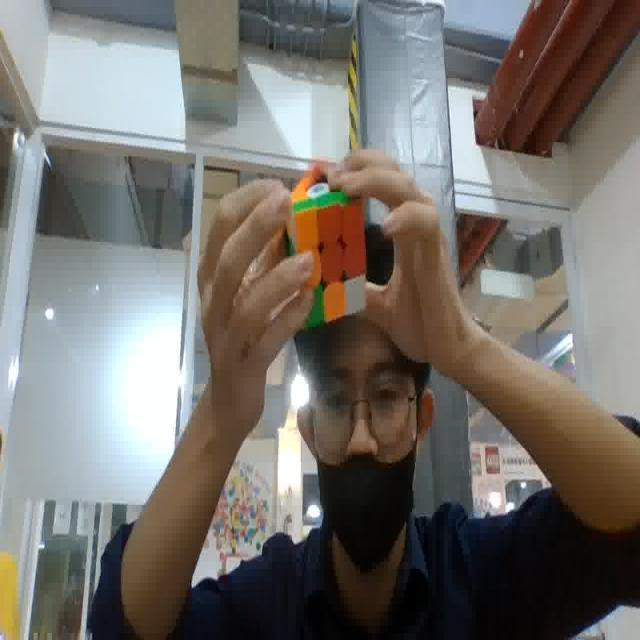Rub: (274, 164, 368, 329)
